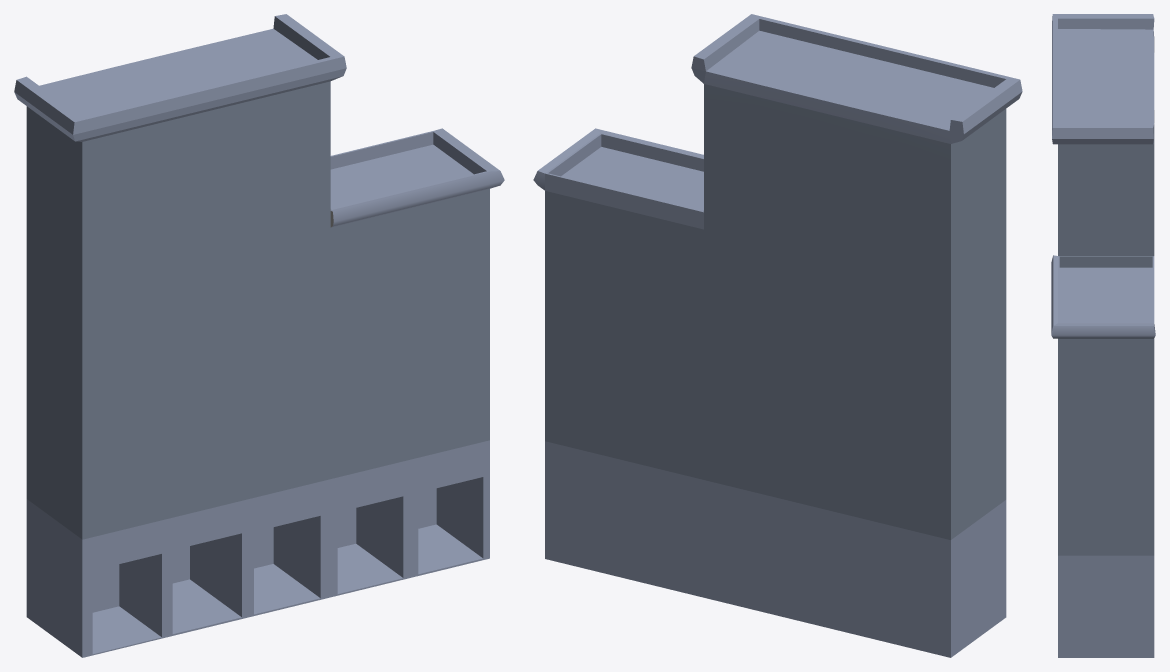
File: building_L_5floors.fbx
3 renders of one model, left to right at view 1: azimuth 30°, elevation 25°; view 2: azimuth 150°, elevation 25°; view 3: azimuth 270°, elevation 25°, orthographic. The views are drawn at different scales.
Parts seen in each view (by area): view 1: building_L_5floors; view 2: building_L_5floors; view 3: building_L_5floors.
Boxes of the visible parts, x1,y1,x2,y2 form: building_L_5floors: (14,14,504,657); building_L_5floors: (533,14,1022,657); building_L_5floors: (1051,14,1155,657).
Size of the model in its own units: 14.01 by 16.78 by 3.4.
